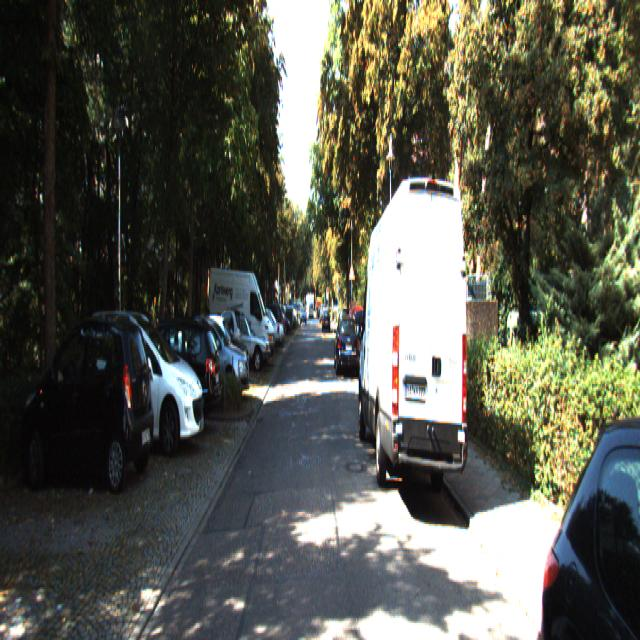Car: (539, 382, 640, 638), (18, 310, 156, 494), (78, 298, 206, 457), (110, 307, 222, 432), (171, 312, 250, 405), (214, 312, 270, 375), (335, 312, 360, 376)
DontCare: (272, 304, 306, 338), (308, 304, 330, 333)
Van: (358, 168, 471, 509), (208, 262, 276, 370)
